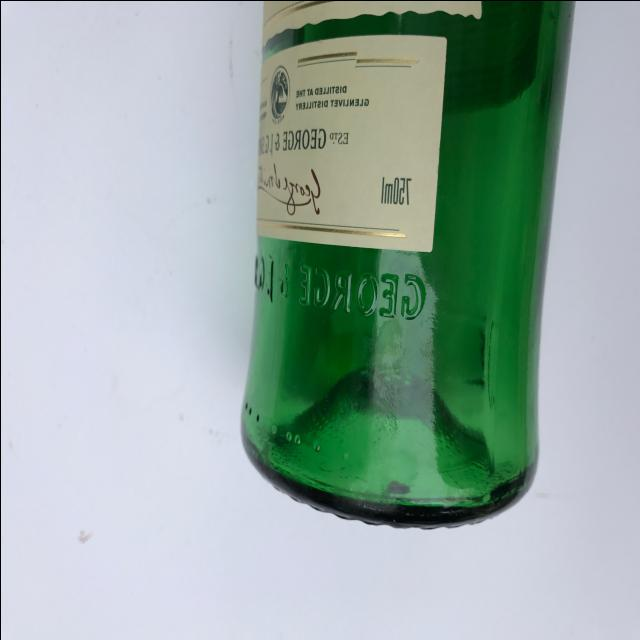glass: (212, 0, 584, 550)
